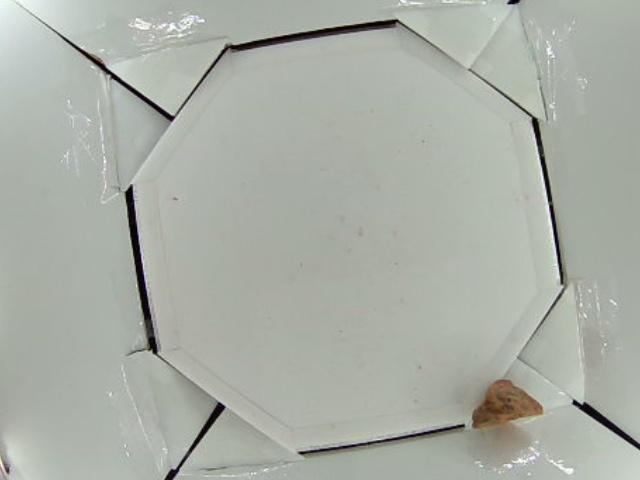Brisk: (471, 379, 544, 423)
